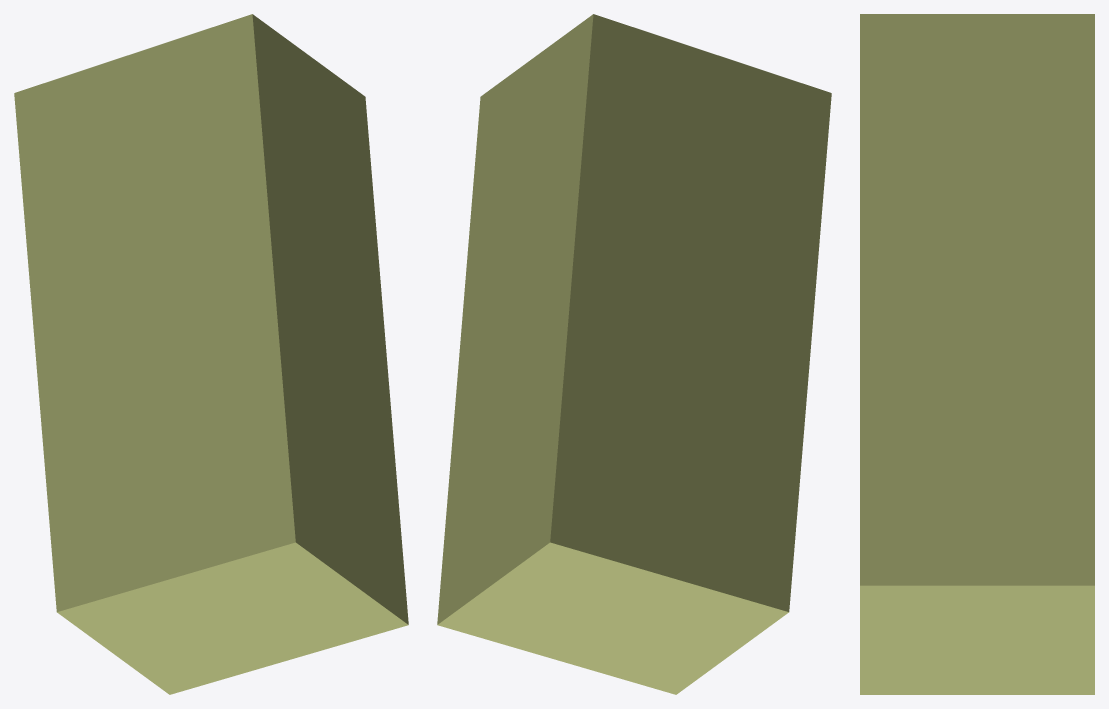
3 renders of one model, left to right at view 1: azimuth 30°, elevation 25°; view 2: azimuth 150°, elevation 25°; view 3: azimuth 270°, elevation 25°, orthographic. The views are drawn at different scales.
Parts seen in each view (by area): view 1: 0_0_1_3_2_1_2_2_2; view 2: 0_0_1_3_2_1_2_2_2; view 3: 0_0_1_3_2_1_2_2_2.
Part boxes in pixels (x1,y1,x2,y2): 0_0_1_3_2_1_2_2_2: [14, 14, 408, 694]; 0_0_1_3_2_1_2_2_2: [437, 14, 831, 694]; 0_0_1_3_2_1_2_2_2: [860, 14, 1094, 694].
Bounding box in the file's own units: 8.63 × 16.13 × 6.
